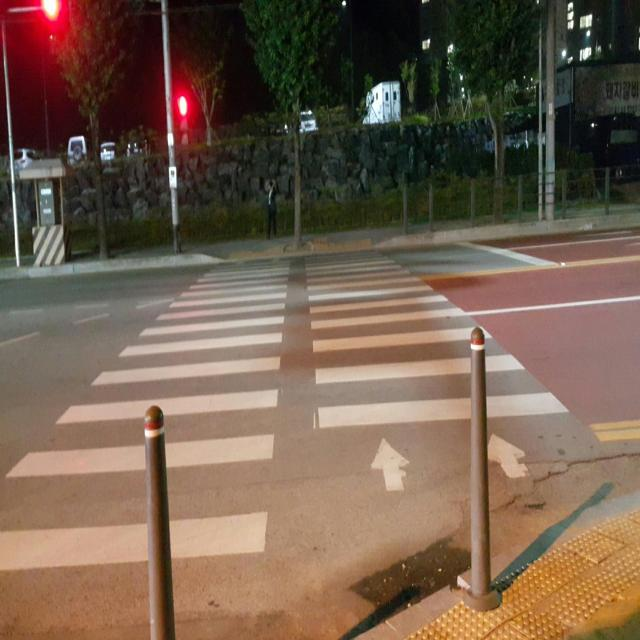빨간불: (178, 95, 192, 147)
횡단보도: (0, 251, 569, 573)
